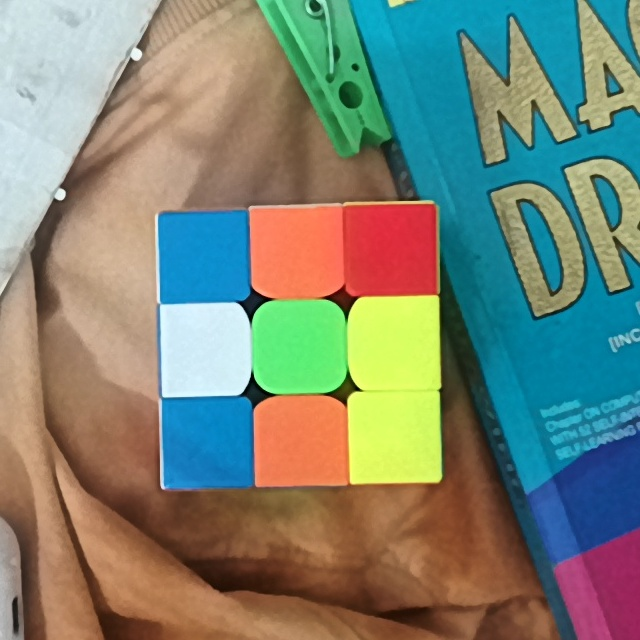tile: (161, 213, 246, 294), (348, 209, 434, 289), (261, 405, 345, 479), (257, 211, 337, 288), (163, 311, 244, 387), (166, 405, 248, 480), (354, 400, 434, 476), (358, 305, 434, 383), (259, 312, 342, 383)
